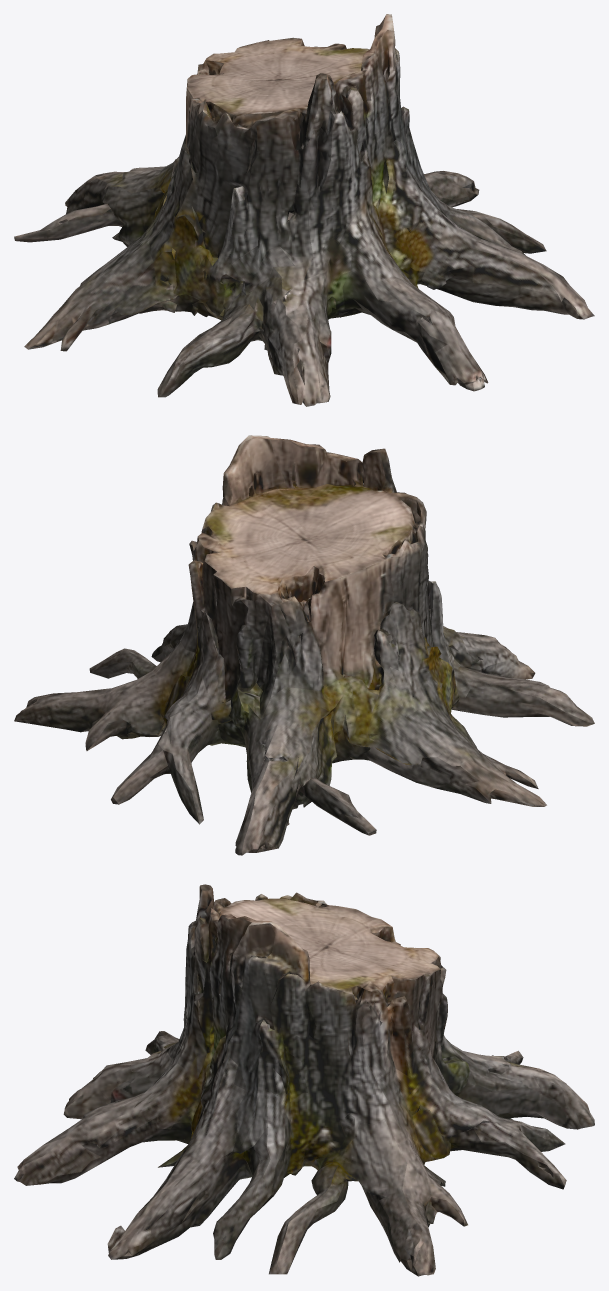
File: old_stump.glb
3 views of the same model, one above another, from view 1: azimuth 30°, elevation 25°; view 2: azimuth 150°, elevation 25°; view 3: azimuth 270°, elevation 25° (orthographic). The views are drawn at different scales.
Visible parts, largest first — view 1: geometry_0; view 2: geometry_0; view 3: geometry_0.
Boxes of the visible parts, x1=… form: geometry_0: x1=14, y1=14, x2=594, y2=406; geometry_0: x1=14, y1=435, x2=594, y2=855; geometry_0: x1=14, y1=884, x2=594, y2=1276.
Size of the model in its own units: 0.8 by 0.4244 by 0.8077.
Materials: 1 (1 with a texture image).
